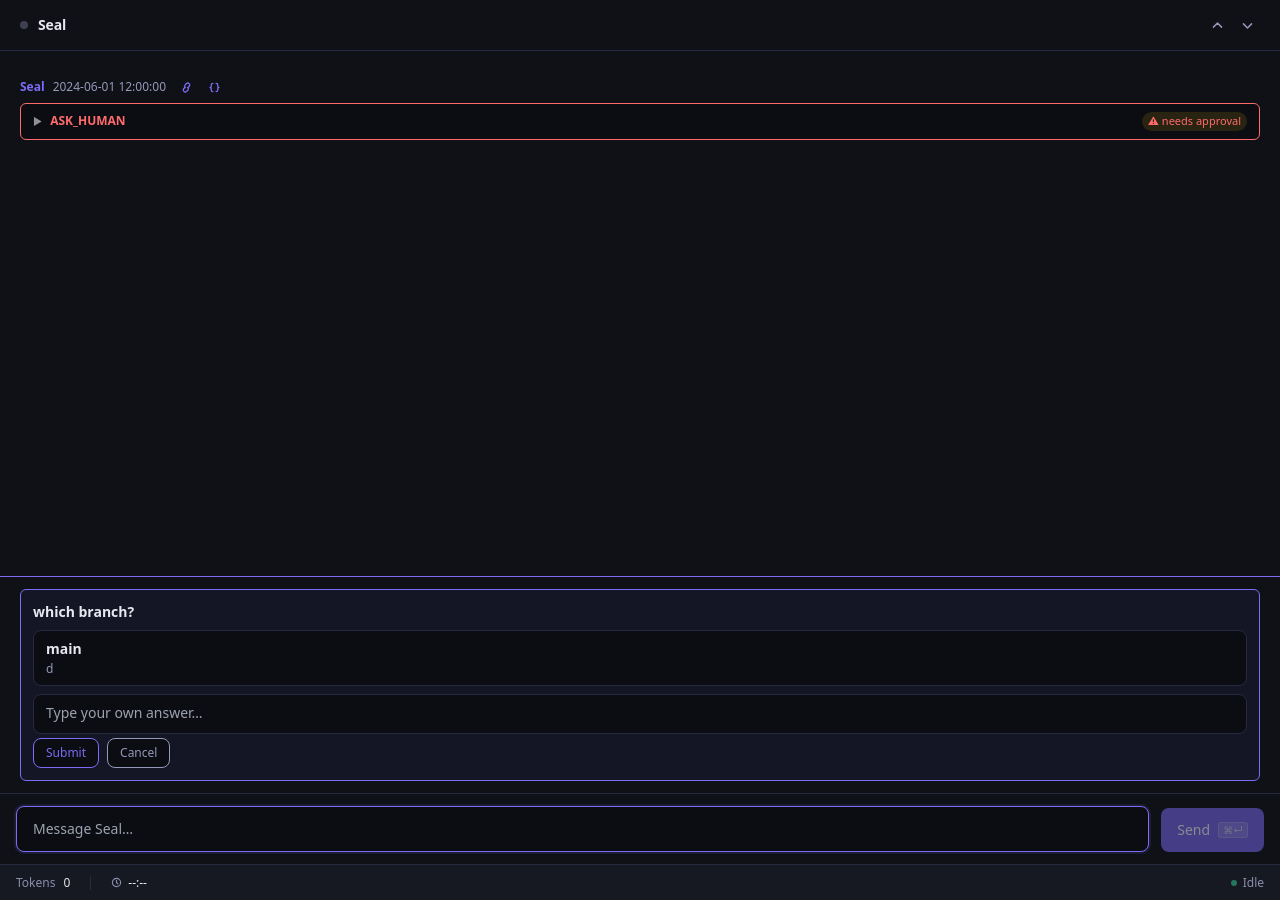
it: AskHumanForm › form dismisses immediately after POST resolves true, even without WS
The width and height of the screenshot is (1280, 900).
Click the text "main": (64, 648) x1=46 y1=639 x2=82 y2=658
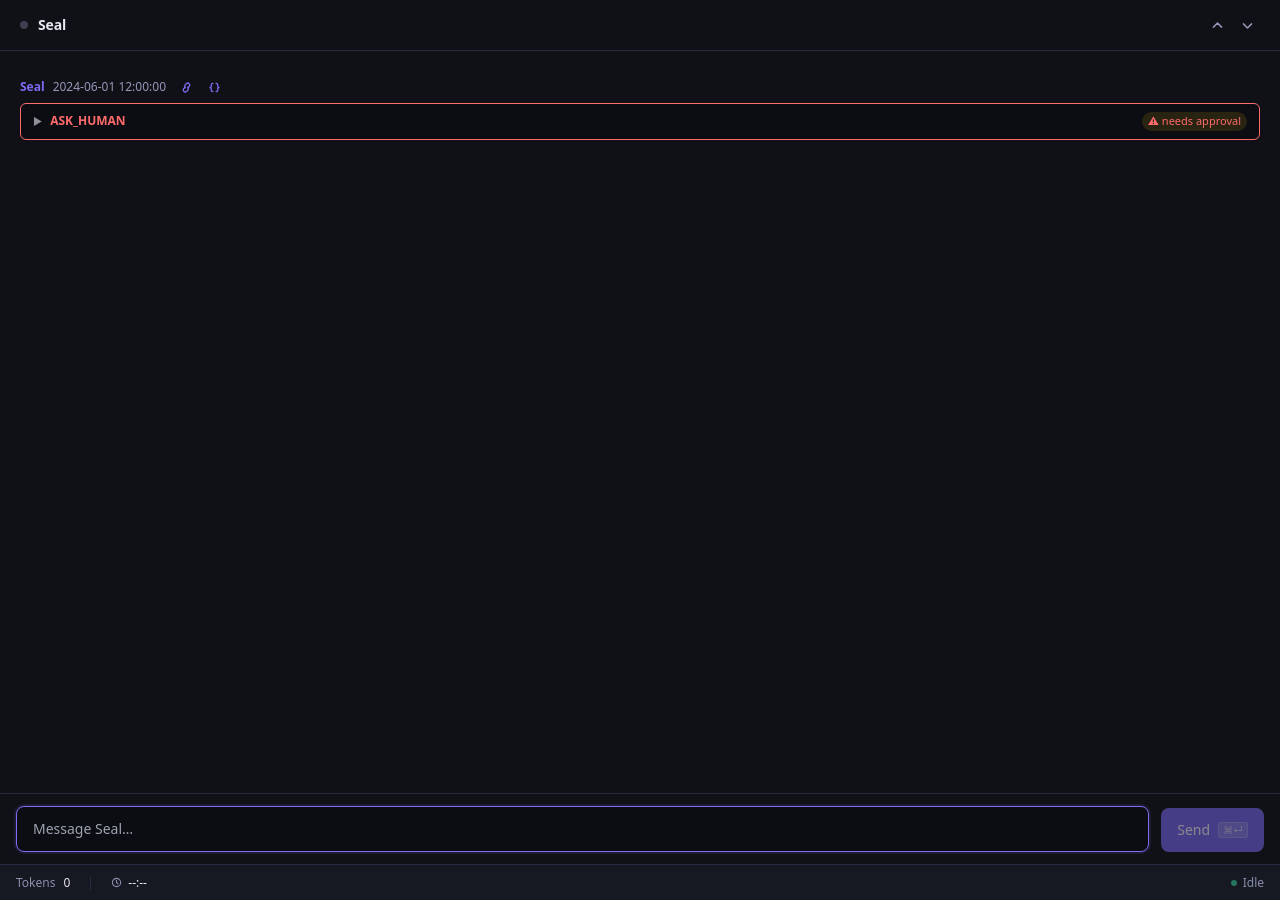
Expected: the element with test id "ask-human-form" is gone
